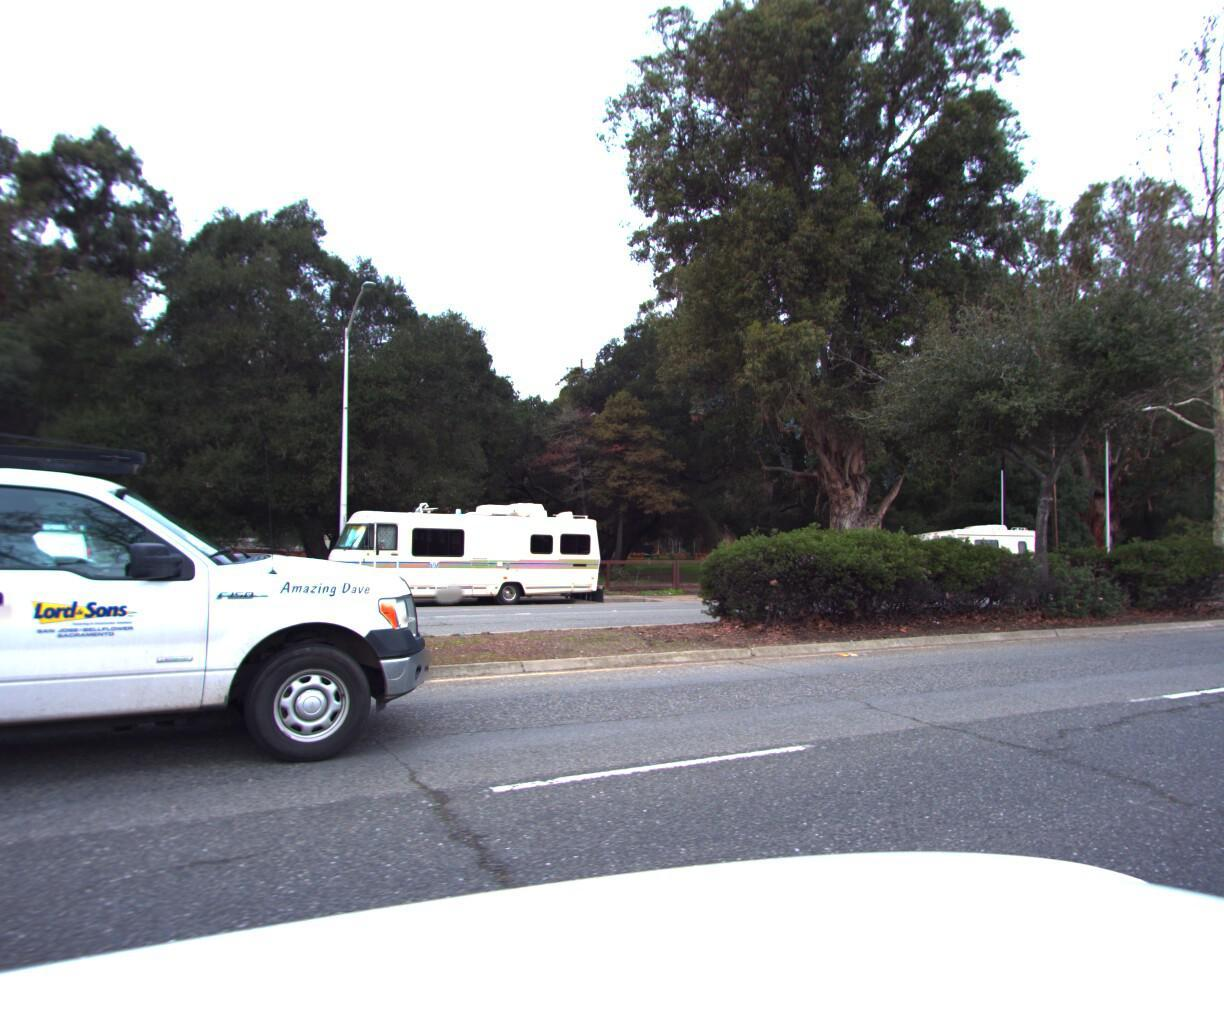car: (0, 338, 473, 928), (111, 550, 307, 616)
other_vehicle: (310, 493, 612, 609), (883, 513, 1049, 594)
